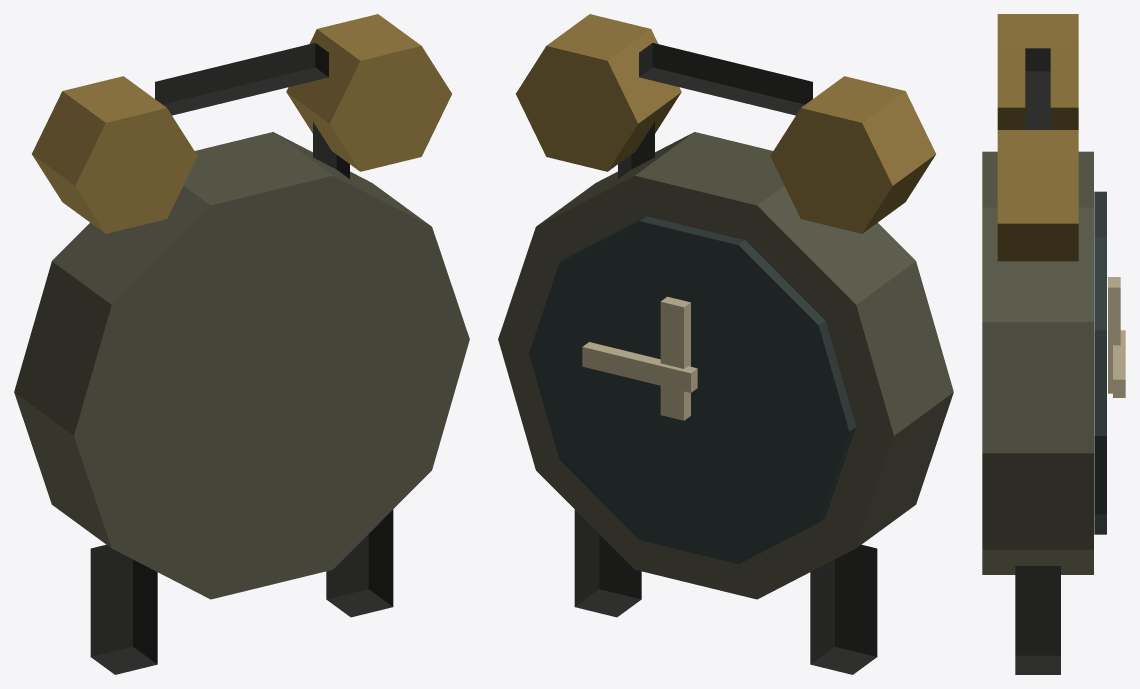
File: alarm_clock.obj
The picture shows the model from 3 angles, left to right: view 1: azimuth 30°, elevation 25°; view 2: azimuth 150°, elevation 25°; view 3: azimuth 270°, elevation 25°; orthographic projection. The views are drawn at different scales.
Parts seen in each view (by area): view 1: case, bell-1, bell1, foot-1, bridge, foot1, stem1; view 2: face, case, bell-1, bell1, foot-1, bridge, foot1, hour, minute, stem1; view 3: case, bell1, bell-1, foot1, face, bridge, hour, minute.
Part boxes in pixels (bbox=[...]): case: bbox=[14, 132, 469, 599]; bell-1: bbox=[32, 76, 197, 233]; bell1: bbox=[286, 14, 451, 171]; foot-1: bbox=[90, 544, 157, 674]; bridge: bbox=[155, 43, 328, 115]; foot1: bbox=[326, 509, 393, 617]; stem1: bbox=[313, 122, 349, 178]; face: bbox=[529, 216, 855, 564]; case: bbox=[498, 132, 953, 599]; bell-1: bbox=[770, 76, 935, 233]; bell1: bbox=[516, 14, 681, 171]; foot-1: bbox=[810, 544, 877, 674]; bridge: bbox=[639, 43, 812, 115]; foot1: bbox=[574, 509, 641, 617]; hour: bbox=[660, 296, 690, 420]; minute: bbox=[582, 342, 697, 392]; stem1: bbox=[618, 122, 654, 178]; case: bbox=[982, 151, 1093, 574]; bell1: bbox=[997, 130, 1078, 261]; bell-1: bbox=[997, 14, 1078, 129]; foot1: bbox=[1015, 566, 1060, 674]; face: bbox=[1094, 191, 1106, 534]; bridge: bbox=[1025, 48, 1050, 129]; hour: bbox=[1108, 277, 1120, 393]; minute: bbox=[1113, 330, 1125, 397].
Size of the model in its own units: 0.84 by 1.15 by 0.2825.
